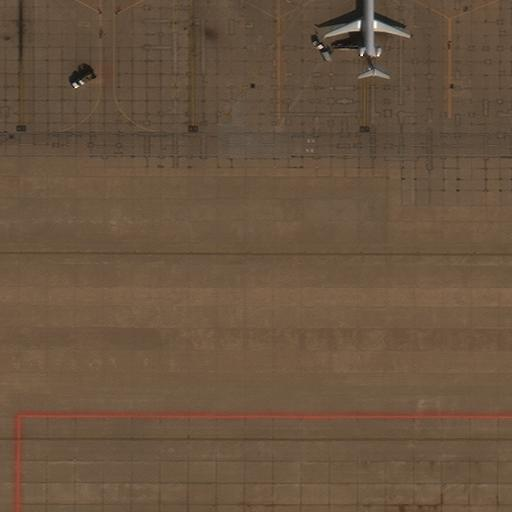Medium Civil Transport: (324, 0, 409, 77)
